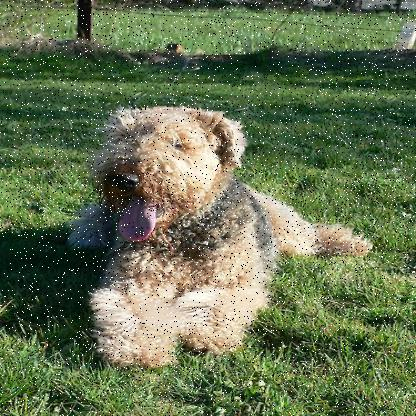dog: (75, 100, 340, 365)
